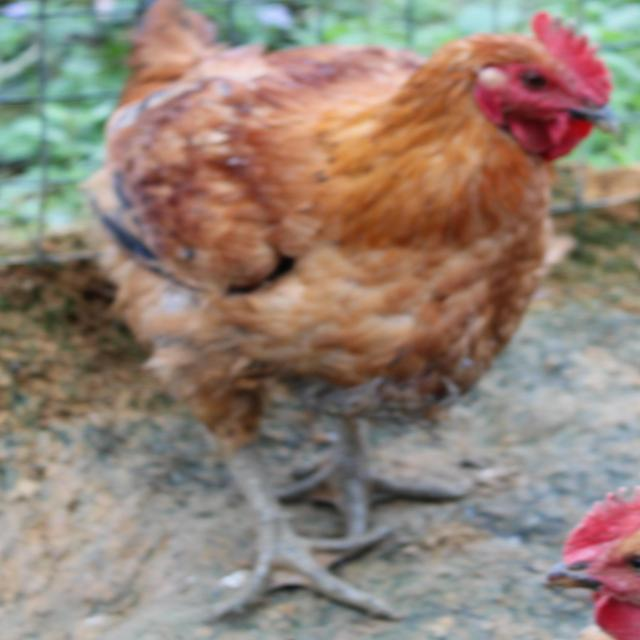hen: (79, 0, 614, 465)
